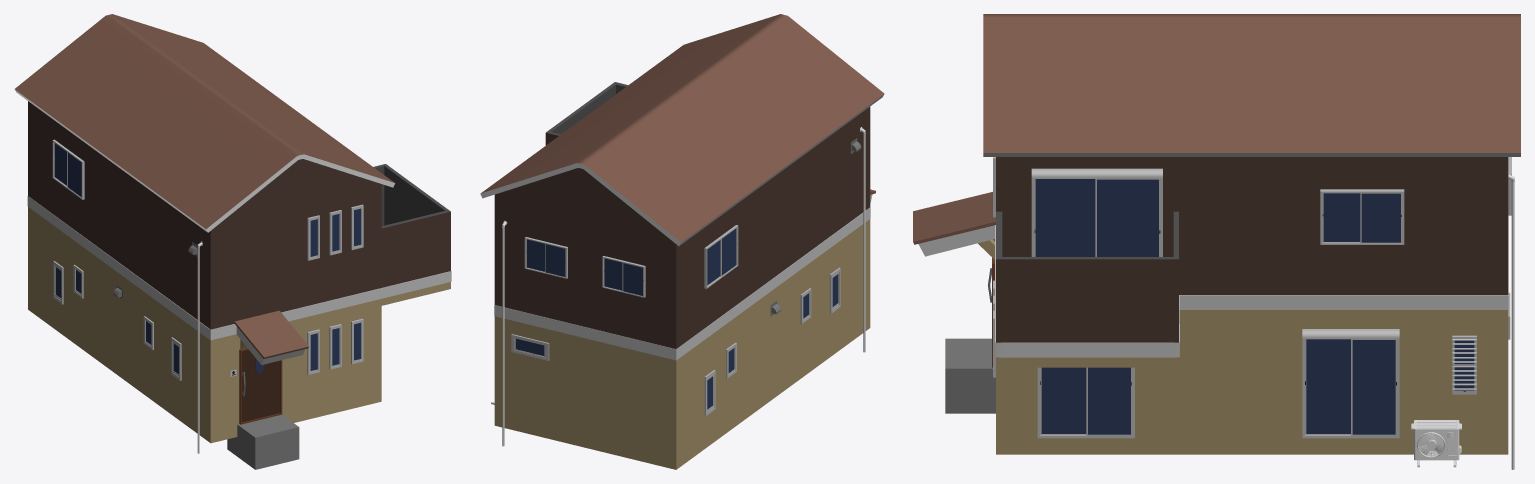
File: house014.fbx
3 views of the same model, side by side, from view 1: azimuth 30°, elevation 25°; view 2: azimuth 150°, elevation 25°; view 3: azimuth 270°, elevation 25° (orthographic). The views are drawn at different scales.
Parts seen in each view (by area): view 1: house014; view 2: house014; view 3: house014.
Boxes of the visible parts, box(x1,y1,x2,y2) form: house014: box(14, 14, 451, 469); house014: box(480, 14, 884, 469); house014: box(913, 14, 1520, 469).
Size of the model in its own units: 8.12 by 9.02 by 12.18.
